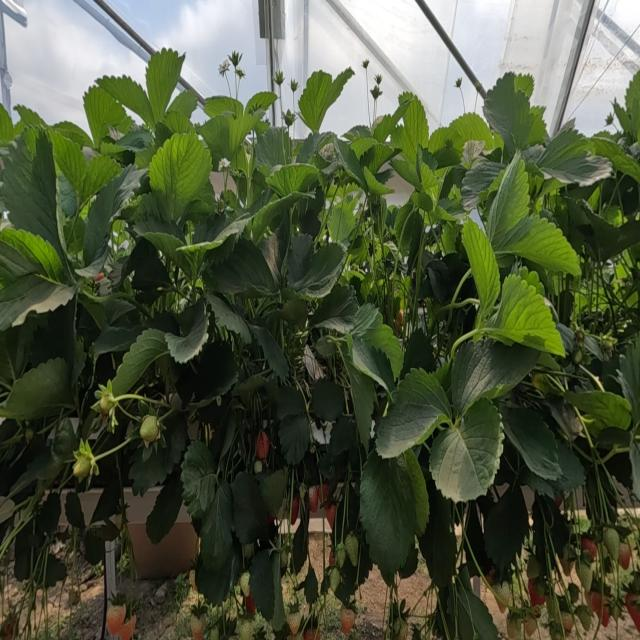Flowers: (219, 57, 230, 90), (228, 51, 242, 74), (283, 108, 295, 130), (371, 84, 382, 101), (273, 70, 284, 86), (290, 79, 298, 97), (605, 112, 614, 126), (374, 74, 382, 86), (454, 78, 462, 89), (362, 59, 369, 71), (375, 75, 382, 82), (236, 87, 238, 98)
Leaves: (0, 132, 74, 279), (429, 399, 504, 503), (360, 450, 415, 584), (376, 369, 451, 458), (451, 339, 540, 414), (84, 165, 146, 265), (493, 274, 564, 356), (50, 130, 122, 210), (149, 133, 211, 222), (493, 215, 579, 275), (529, 129, 612, 186), (566, 198, 640, 261), (0, 358, 73, 420), (503, 408, 563, 481), (483, 72, 534, 155), (486, 152, 529, 249), (462, 220, 500, 328), (0, 275, 76, 329), (212, 238, 278, 296), (112, 328, 169, 395), (484, 485, 528, 571), (176, 340, 237, 401), (298, 68, 354, 133), (445, 569, 497, 639), (312, 286, 379, 337), (98, 75, 158, 128), (200, 481, 234, 572), (289, 243, 346, 297), (83, 86, 134, 146), (345, 357, 377, 449), (180, 440, 217, 517), (146, 47, 185, 120), (396, 449, 429, 535), (564, 389, 631, 430), (166, 300, 209, 363), (588, 132, 640, 184), (146, 471, 183, 543), (231, 473, 267, 544), (352, 336, 395, 393), (461, 156, 506, 209), (206, 294, 252, 343), (619, 334, 640, 440), (250, 324, 288, 379), (129, 447, 171, 495), (200, 116, 235, 169), (227, 104, 260, 158), (250, 550, 275, 620), (267, 164, 318, 197), (398, 92, 429, 146), (451, 113, 497, 149), (278, 414, 310, 465), (256, 127, 291, 170), (312, 379, 344, 422), (297, 132, 335, 162), (329, 415, 356, 456), (390, 158, 421, 190), (391, 126, 417, 164), (204, 96, 243, 117), (429, 127, 459, 153), (246, 91, 277, 113), (373, 115, 398, 142)
Strawberries: (73, 440, 99, 482), (96, 380, 117, 416), (589, 592, 609, 626), (140, 414, 160, 447), (110, 616, 137, 639), (107, 604, 126, 636), (625, 593, 640, 632), (576, 560, 593, 591), (603, 529, 620, 559), (575, 604, 593, 631), (345, 533, 359, 565), (493, 583, 511, 607), (256, 431, 270, 460), (506, 612, 521, 639), (581, 537, 597, 561), (325, 502, 337, 532), (340, 609, 354, 634), (287, 612, 302, 635), (190, 616, 204, 639), (527, 555, 540, 579), (329, 567, 340, 593), (239, 571, 250, 597), (335, 543, 346, 568), (620, 543, 630, 569), (524, 617, 537, 637), (309, 485, 318, 513), (318, 483, 329, 505), (562, 613, 574, 632), (246, 593, 256, 614), (304, 628, 321, 639), (254, 460, 262, 473)
